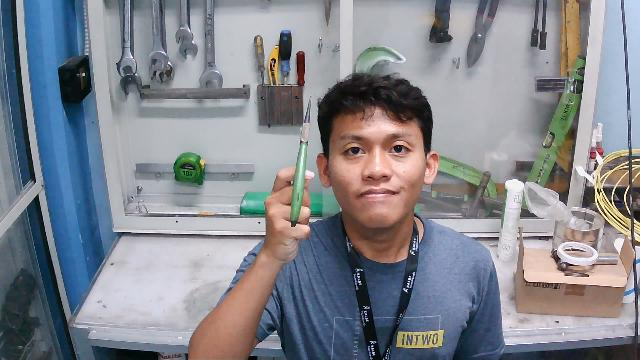tang_cucut_lancip_2: (285, 93, 321, 230)
